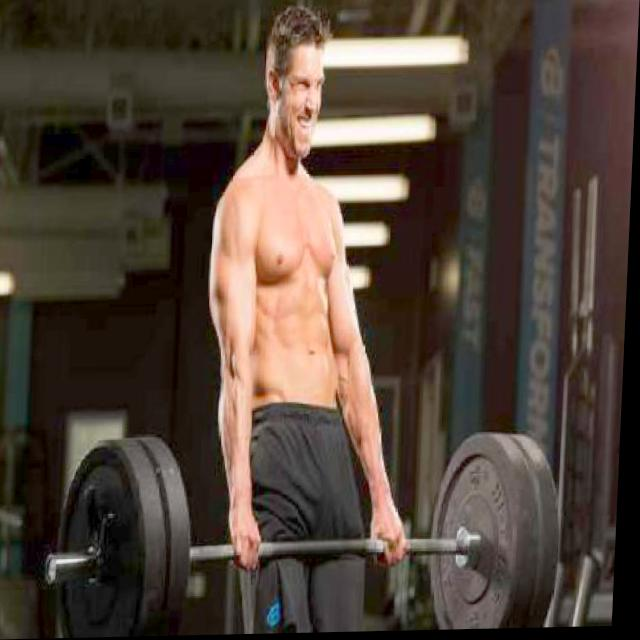barbell: (48, 433, 161, 640)
